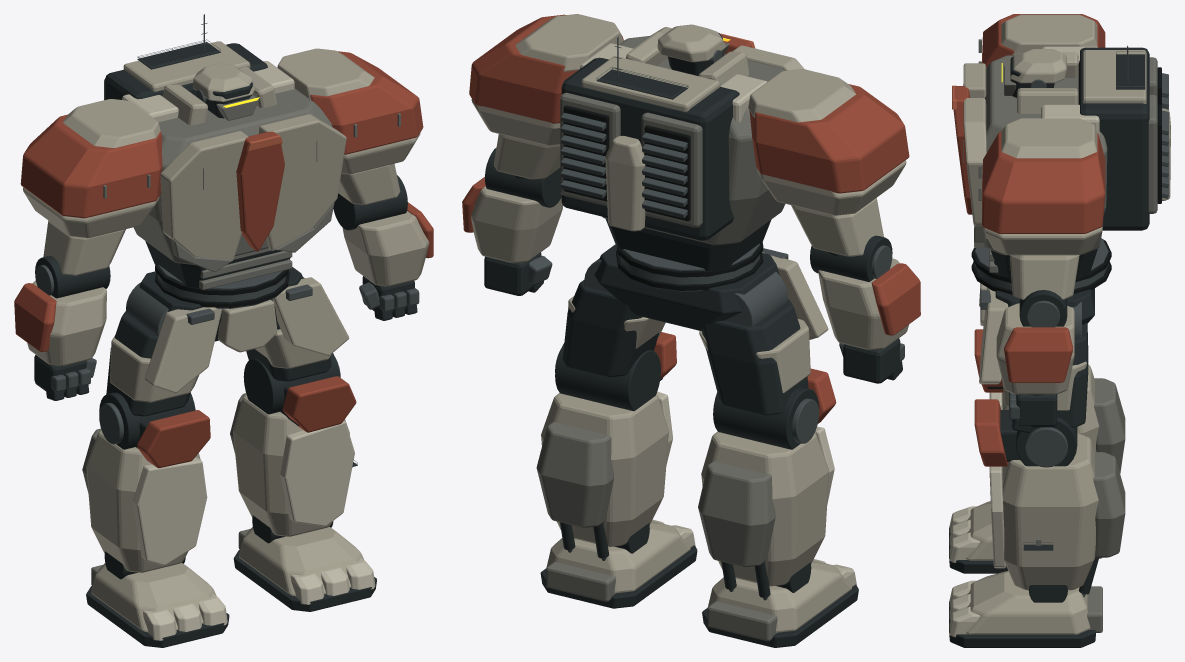
3 renders of one model, left to right at view 1: azimuth 30°, elevation 25°; view 2: azimuth 150°, elevation 25°; view 3: azimuth 270°, elevation 25°, orthographic. The views are drawn at different scales.
Visible parts, largest first — view 1: CK_L_pauldron_red_shell, CK_L_breastplate, CK_R_breastplate, CK_L_shin_shield, CK_R_shin_load_hull, CK_R_shin_shield, CK_L_shin_load_hull, CK_R_pauldron_red_shell, CK_Chest_inner_hull, CK_L_foot_instep, CK_R_foot_instep, CK_R_forearm_hull (+51 smaller); view 2: CK_L_pauldron_red_shell, CK_L_shin_load_hull, CK_R_shin_load_hull, CK_Back_power_hull, CK_L_thigh_structure, CK_L_calf_rear_cowling, CK_R_calf_rear_cowling, CK_R_pauldron_red_shell, CK_Pelvis_load_frame, CK_R_thigh_structure, CK_Chest_inner_hull, CK_R_forearm_hull (+43 smaller); view 3: CK_R_shin_load_hull, CK_R_pauldron_red_shell, CK_Back_power_hull, CK_R_foot_instep, CK_R_pauldron_gray_crown, CK_R_forearm_red_outer_plate, CK_L_pauldron_gray_crown, CK_R_calf_rear_cowling, CK_Chest_inner_hull, CK_R_upper_arm_casing, CK_Back_upper_deck, CK_R_pauldron_lower_band (+39 smaller).
Boxes of the visible parts, <box> form: CK_L_pauldron_red_shell: <box>20,114,162,218</box>; CK_L_breastplate: <box>160,131,248,259</box>; CK_R_breastplate: <box>259,114,346,250</box>; CK_L_shin_shield: <box>133,457,207,565</box>; CK_R_shin_load_hull: <box>233,393,349,536</box>; CK_R_shin_shield: <box>280,421,354,526</box>; CK_L_shin_load_hull: <box>86,429,200,572</box>; CK_R_pauldron_red_shell: <box>310,51,423,154</box>; CK_Chest_inner_hull: <box>133,88,332,265</box>; CK_L_foot_instep: <box>91,562,216,631</box>; CK_R_foot_instep: <box>239,526,363,596</box>; CK_R_forearm_hull: <box>342,211,429,286</box>; CK_L_pauldron_red_shell: <box>749,84,909,193</box>; CK_L_shin_load_hull: <box>701,431,829,586</box>; CK_R_shin_load_hull: <box>541,393,668,546</box>; CK_Back_power_hull: <box>561,57,739,240</box>; CK_L_thigh_structure: <box>702,299,808,415</box>; CK_L_calf_rear_cowling: <box>698,461,775,566</box>; CK_R_calf_rear_cowling: <box>536,421,614,527</box>; CK_R_pauldron_red_shell: <box>469,14,623,123</box>; CK_Pelvis_load_frame: <box>594,244,779,330</box>; CK_R_thigh_structure: <box>562,280,658,376</box>; CK_Chest_inner_hull: <box>602,36,785,245</box>; CK_R_forearm_hull: <box>471,186,562,263</box>; CK_R_shin_load_hull: <box>1002,433,1098,590</box>; CK_R_pauldron_red_shell: <box>982,131,1105,233</box>; CK_Back_power_hull: <box>1078,47,1149,230</box>; CK_R_foot_instep: <box>966,571,1090,634</box>; CK_R_pauldron_gray_crown: <box>1001,118,1097,158</box>; CK_R_forearm_red_outer_plate: <box>1004,327,1072,382</box>; CK_L_pauldron_gray_crown: <box>1001,14,1097,55</box>; CK_R_calf_rear_cowling: <box>1093,452,1125,557</box>; CK_Chest_inner_hull: <box>984,55,1107,255</box>; CK_R_upper_arm_casing: <box>1010,255,1079,299</box>; CK_Back_upper_deck: <box>1082,50,1146,103</box>; CK_R_pauldron_lower_band: <box>983,226,1102,255</box>.
Size of the model in its own units: 229 by 300 by 108.
